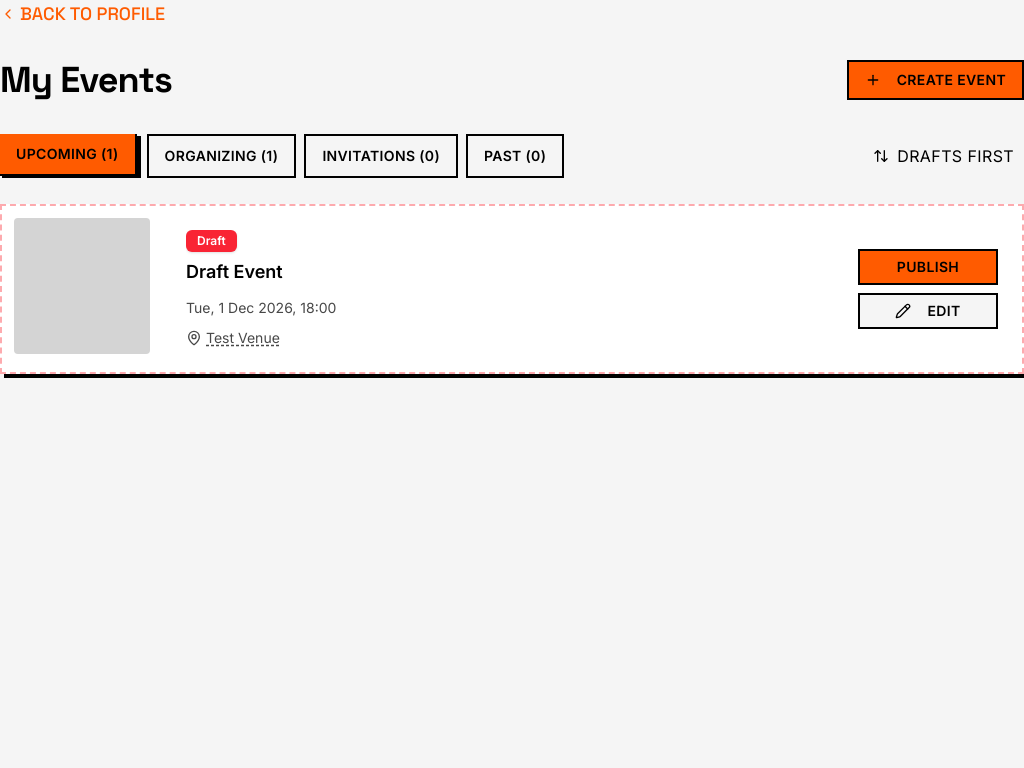
Test: My Events Page › Publish Dialog › should close dialog when Cancel is clicked
Expected: the heading "My Events" is shown, top-left (0, 60), bottom-right (172, 100)
Click the button "Publish".
click(928, 267)  # box top-left (858, 249), bottom-right (998, 285)
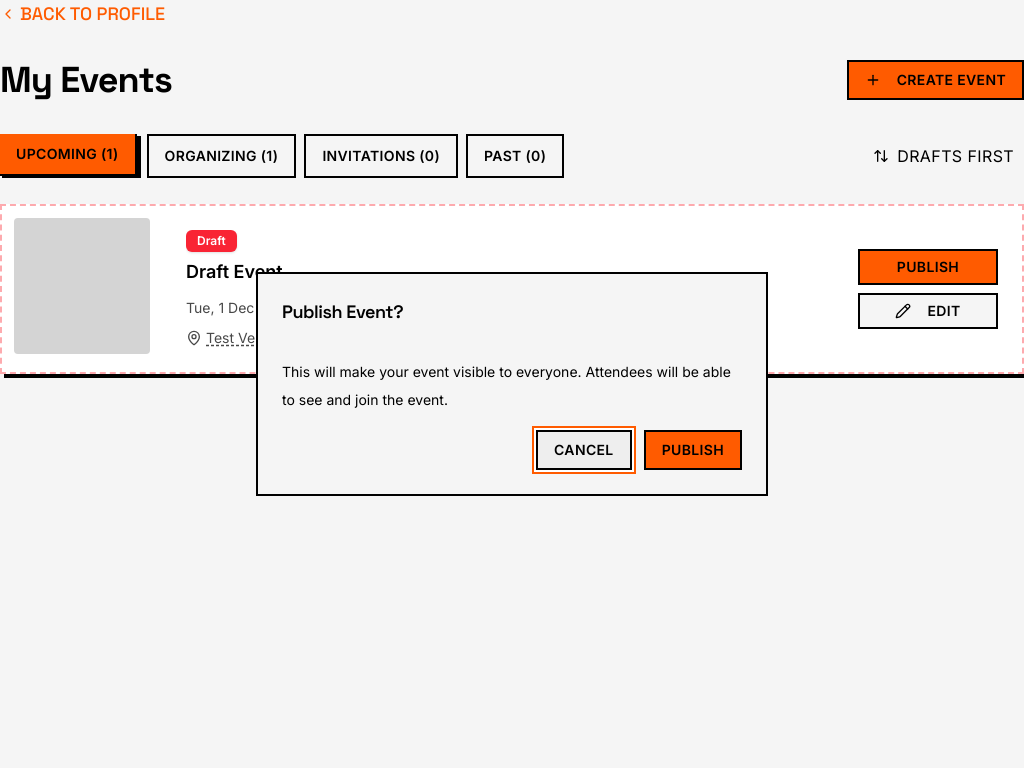
Result: the heading "Publish Event?" is shown at top-left (282, 300), bottom-right (403, 323)
Click the button "Cancel".
click(584, 450)  # box top-left (536, 430), bottom-right (632, 470)
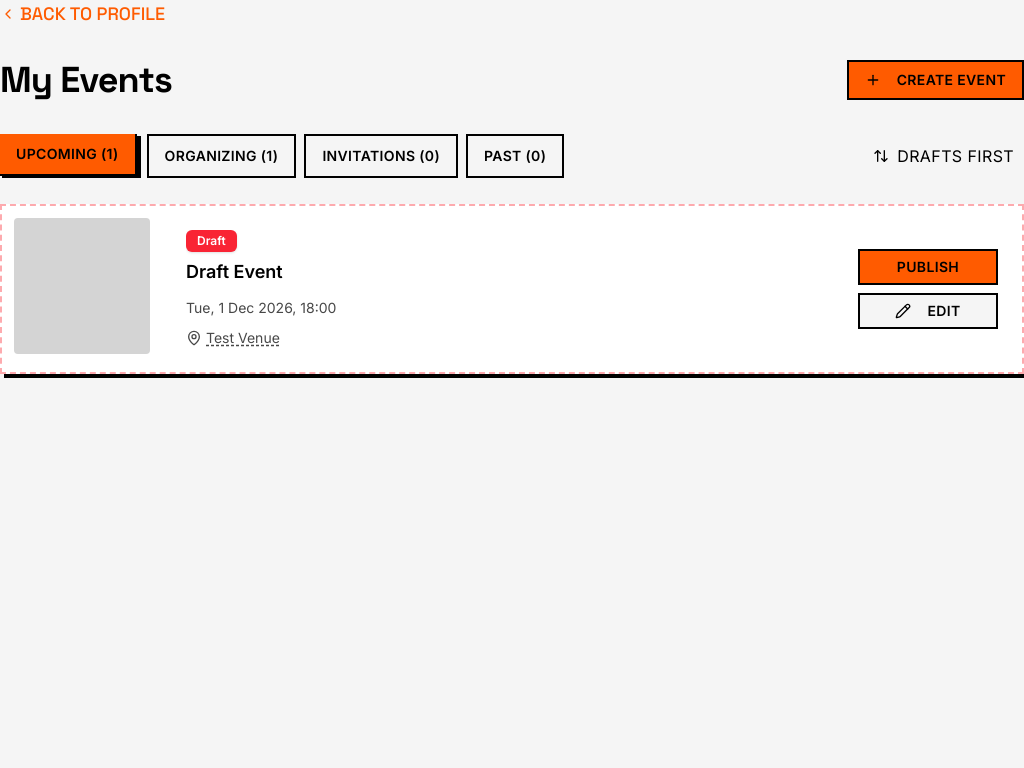
Result: the heading "Publish Event?" is gone
